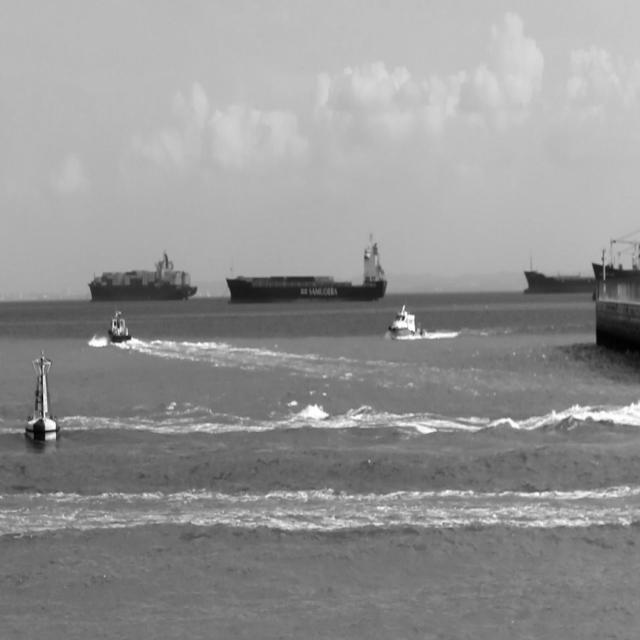buoy: (25, 352, 61, 443)
ship: (225, 230, 388, 304), (88, 247, 198, 302), (523, 254, 595, 294), (389, 303, 425, 339), (107, 306, 133, 346)
